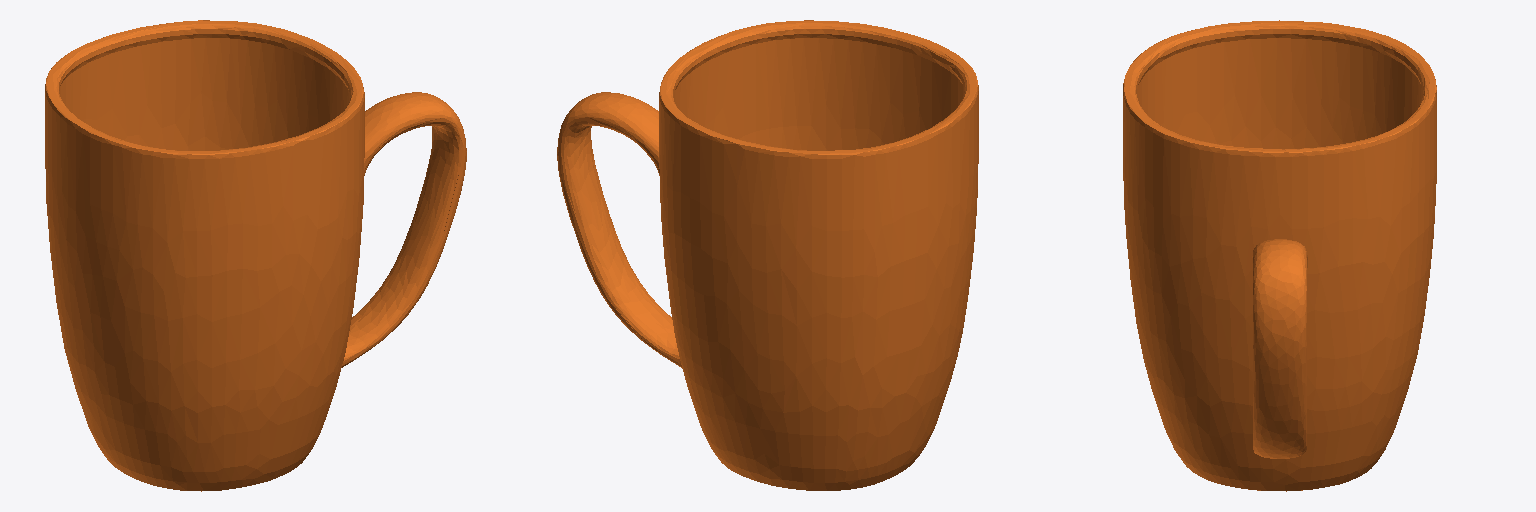
The robot description file, URDF, robot "mug":
<?xml version="1.0"?>
<robot name="mug">
  <link name="base">
    <inertial>
      <mass value="0.3"/>
      <inertia ixx="5e-4" ixy="0" ixz="0" iyy="5e-4" iyz="0" izz="5e-4"/>
    </inertial>
    <visual>
      <origin xyz="0 0 0" rpy="0 0 0"/>
      <geometry><mesh filename="mug_mesh.stl"/></geometry>
      <material name="orange"><color rgba="0.9 0.5 0.2 1.0"/></material>
    </visual>
    <collision>
      <origin xyz="0 0 0" rpy="0 0 0"/>
      <geometry><mesh filename="mug_vhacd.obj"/></geometry>
    </collision>
  </link>
</robot>

--- Render facts (derived) ---
Views: 3 orthographic renders of the robot side by side, from view 1: azimuth 30°, elevation 25°; view 2: azimuth 150°, elevation 25°; view 3: azimuth 270°, elevation 25°.
Robot: mug — 1 links, 0 joints (none); root link base; default pose: all joints at 0.
Visible links, largest first — view 1: base; view 2: base; view 3: base.
Boxes of the visible links, x1,y1,x2,y2 form: base: [45, 20, 466, 491]; base: [557, 20, 978, 490]; base: [1123, 20, 1436, 491].
Bounding box of the posed robot: 0.1219 × 0.0847 × 0.1081 m (x, y, z).
Meshes: 1 distinct files referenced, 1 mesh visuals loaded (1 binary STL).
